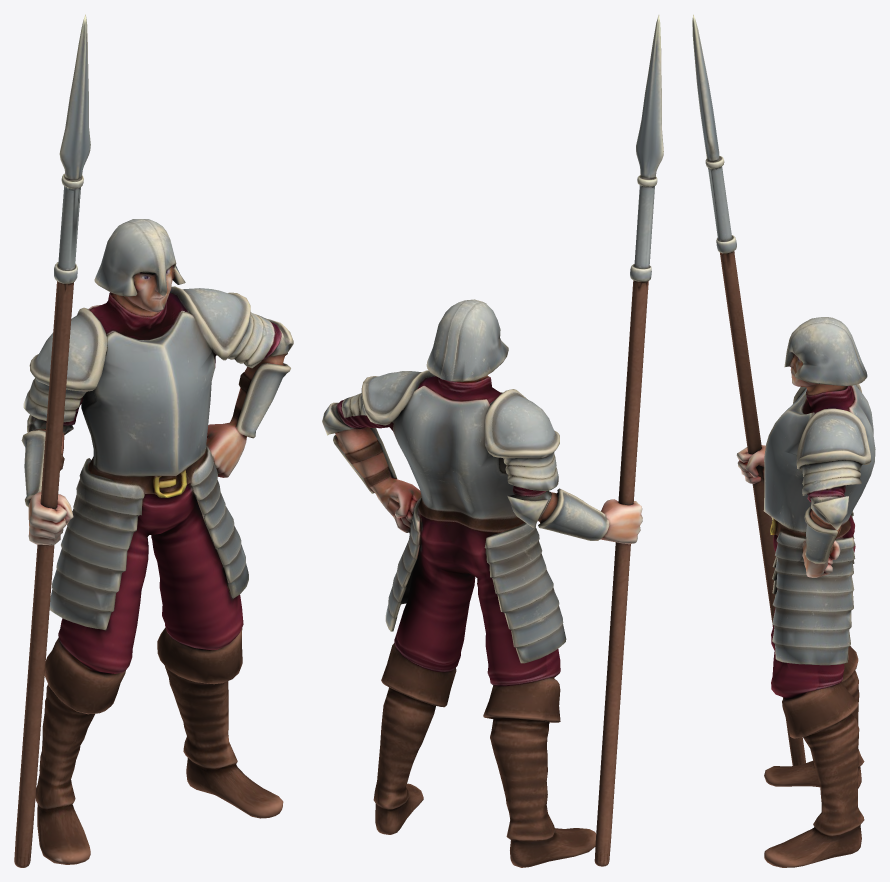
Rendered from MZ4250 - NPC Guard with spear Red.glb.
3 views of the same model, side by side, from view 1: azimuth 30°, elevation 25°; view 2: azimuth 150°, elevation 25°; view 3: azimuth 270°, elevation 25° (orthographic). The views are drawn at different scales.
Parts seen in each view (by area): view 1: body_low.001, spear_low.001; view 2: body_low.001, spear_low.001; view 3: body_low.001, spear_low.001.
Part boxes in pixels (left/top/right/bottom): body_low.001: left=21, top=219, right=293, bottom=864; spear_low.001: left=14, top=14, right=90, bottom=867; body_low.001: left=322, top=299, right=642, bottom=867; spear_low.001: left=594, top=15, right=663, bottom=866; body_low.001: left=736, top=317, right=875, bottom=867; spear_low.001: left=692, top=14, right=805, bottom=765.
Size of the model in its own units: 3.45 by 9.69 by 2.12.
Materials: 1 (1 with a texture image).
